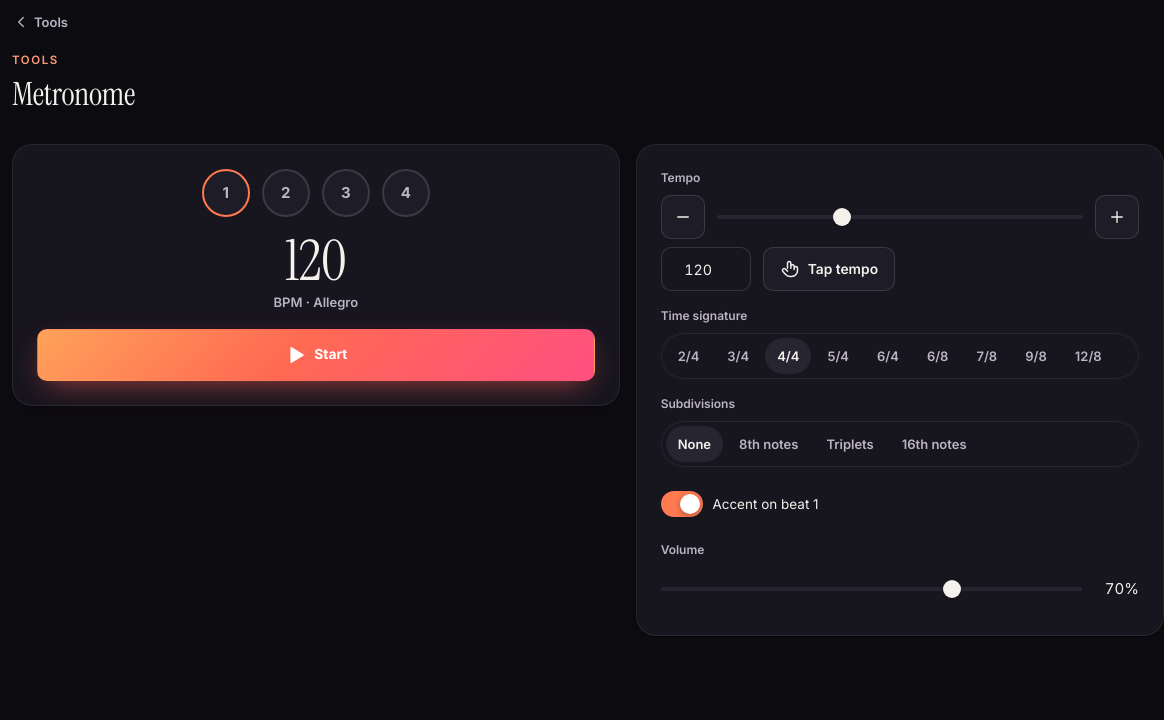
Test case: StandaloneMetronomeView › adjusts BPM via slider and steppers
Set the slider with test id "metronome-bpm-slider" to "140" at (867, 217), box [717,195,1083,239]
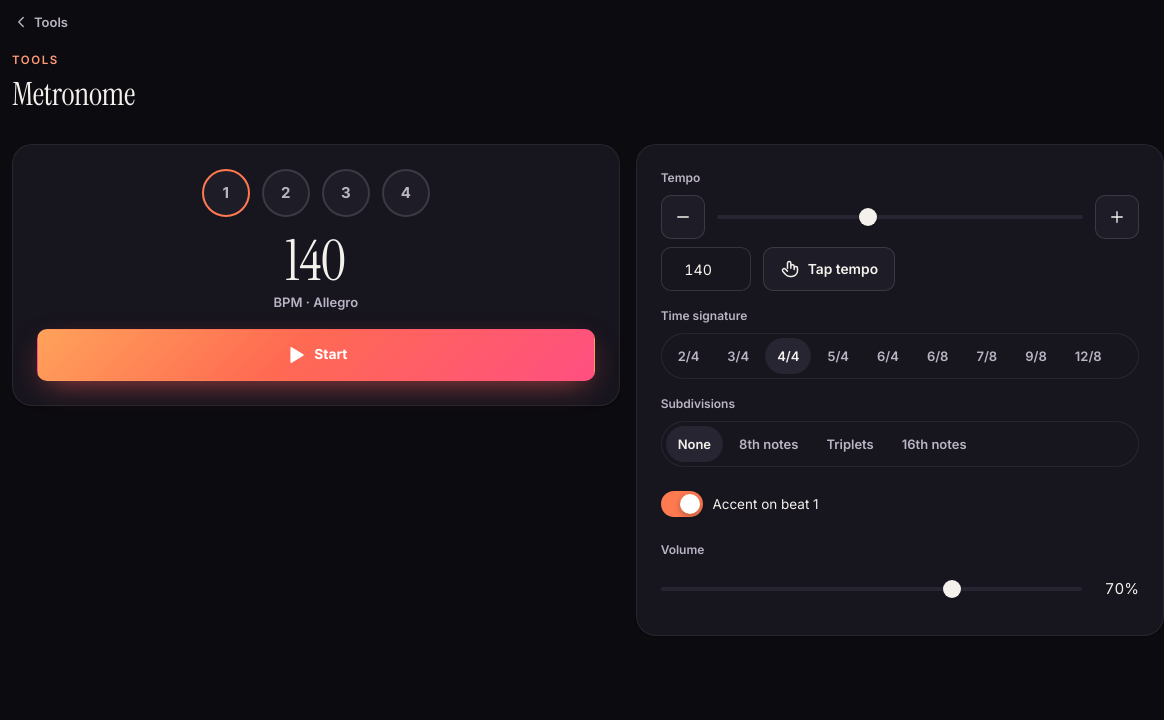
expect the text with test id "metronome-bpm-display" reads "140": met, box [286,225,346,297]
expect the number field with test id "metronome-bpm-input" holds "140": met, box [661,247,751,291]
Click the button with test id "metronome-bpm-plus-1".
click(1117, 217)  # box [1095,195,1139,239]
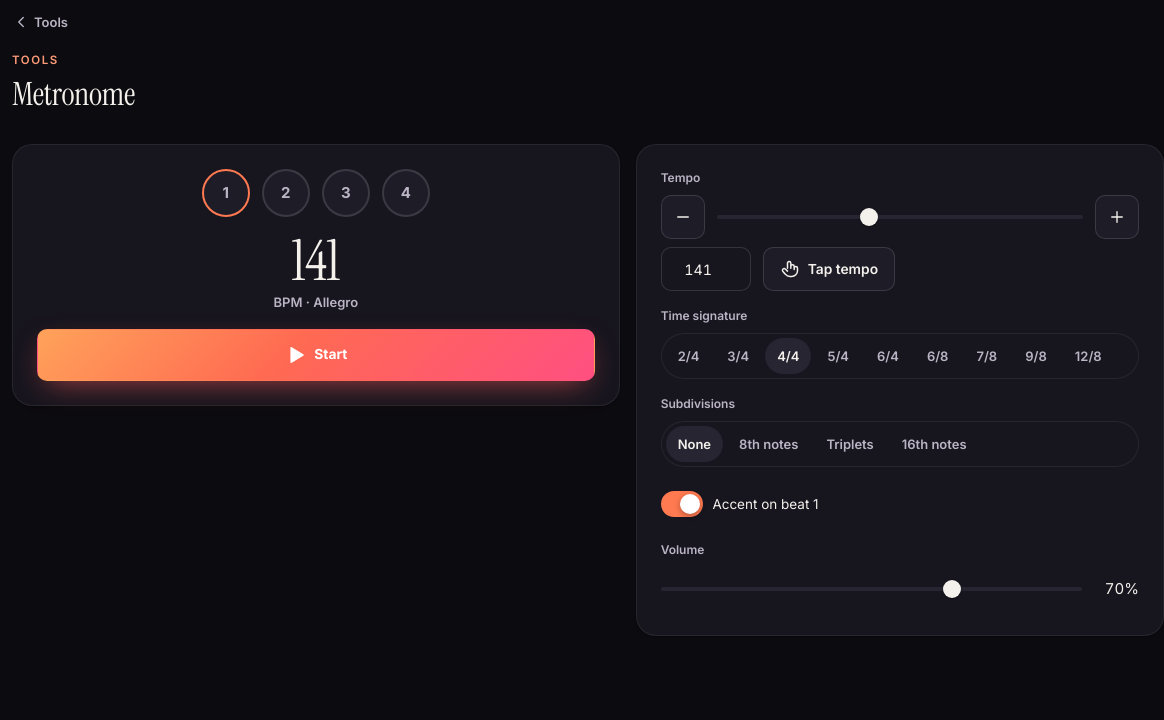
expect the text with test id "metronome-bpm-display" reads "141": met, box [292,225,340,297]
Click the button with test id "metronome-bpm-minus-1".
click(683, 217)  # box [661,195,705,239]
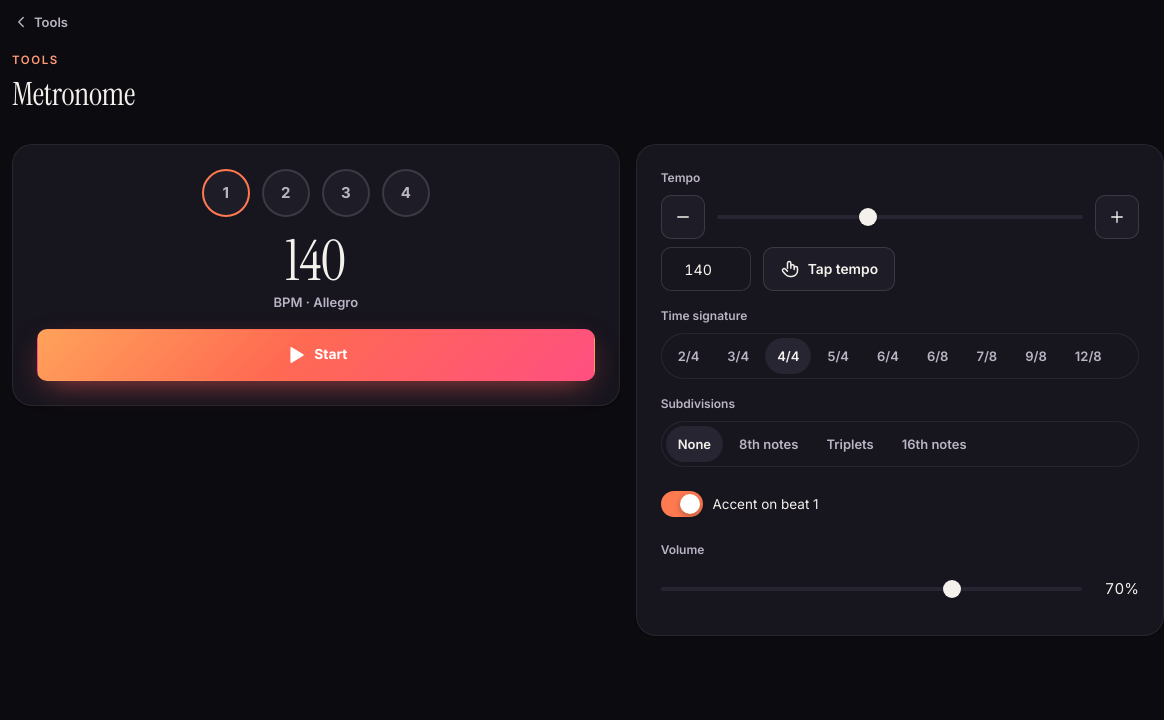
expect the text with test id "metronome-bpm-display" reads "140": met, box [286,225,346,297]
